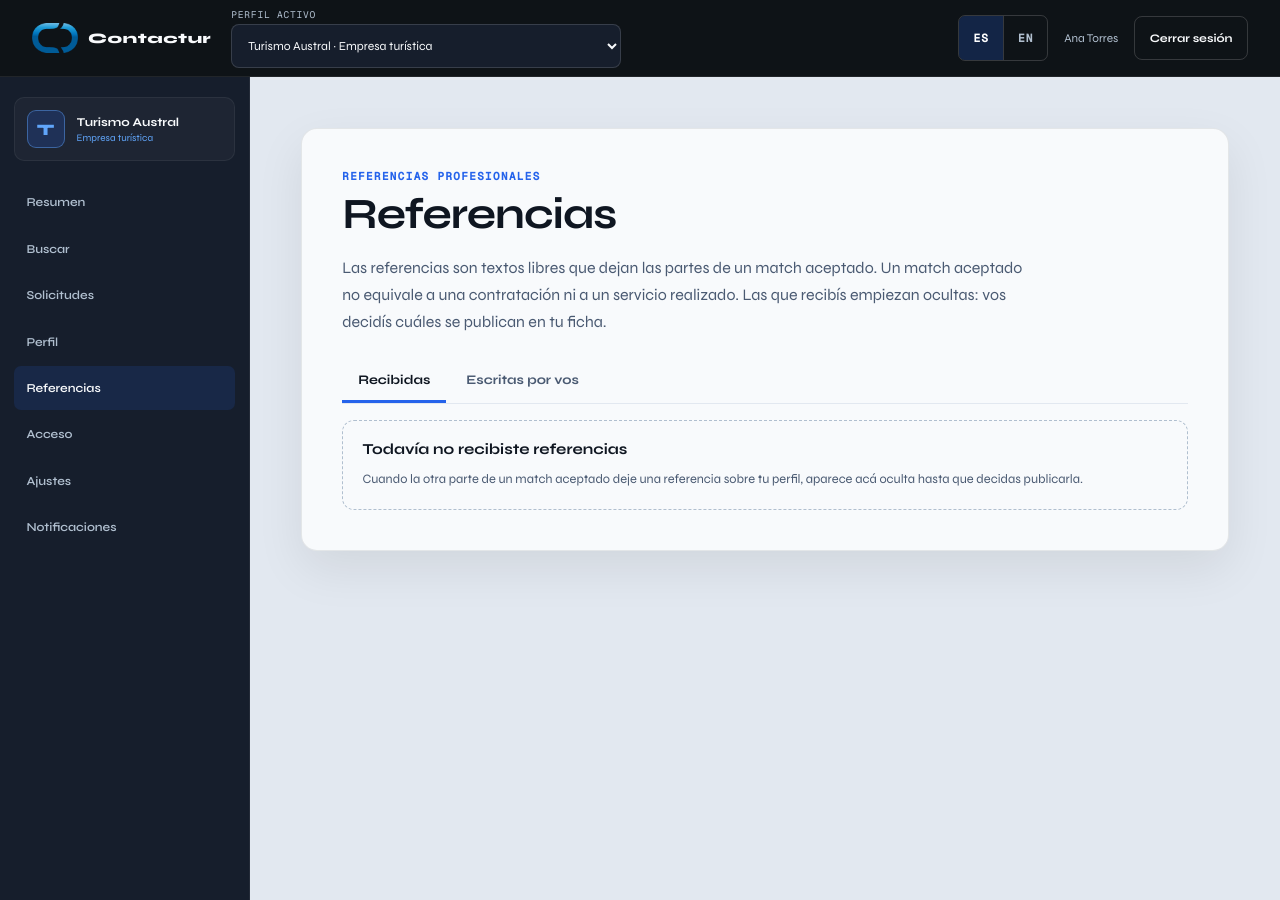
T20 — listado de referencias › cambia a escritas por vos con textos de estado del destinatario y moderación visible
Check: the heading "Referencias" is shown, box [342,188,616,240]
Check: the heading "Todavía no recibiste referencias" is shown, box [362,440,627,458]
Click the tab "Escritas por vos". click: (523, 381)
box: [450,359,595,403]
(page scrolled)
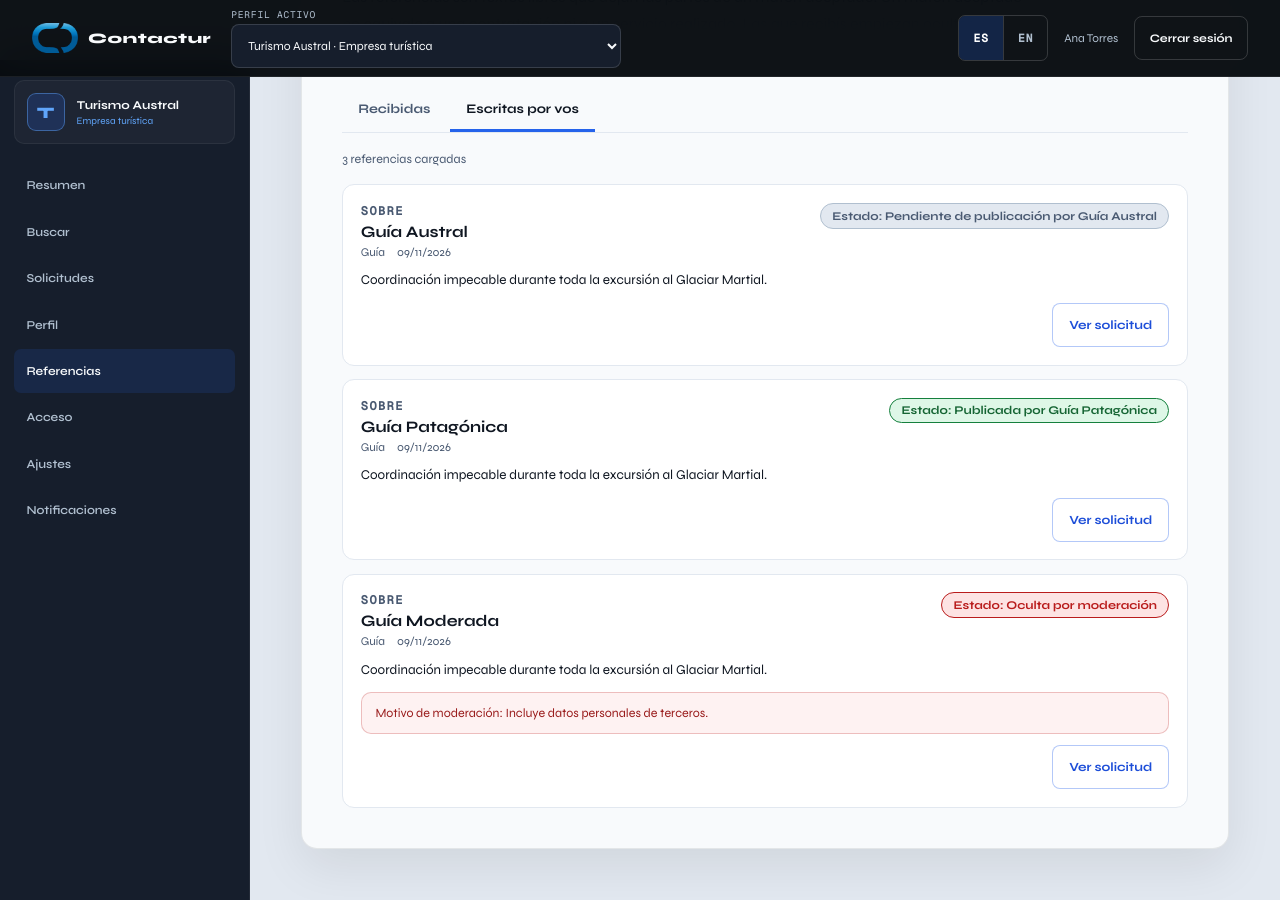
Check: the element "Guía Austral" shows "Sobre", box [361,203,404,218]
Check: the element "Guía Austral" is shown, box [361,245,385,259]
Check: the element "Guía Austral" shows "Estado: Pendiente de publicación por Guía Austral", box [832,209,1157,223]
